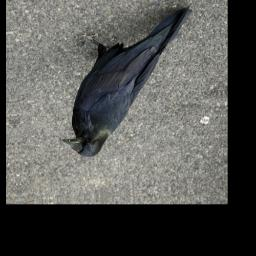Crow: (51, 4, 202, 161)
